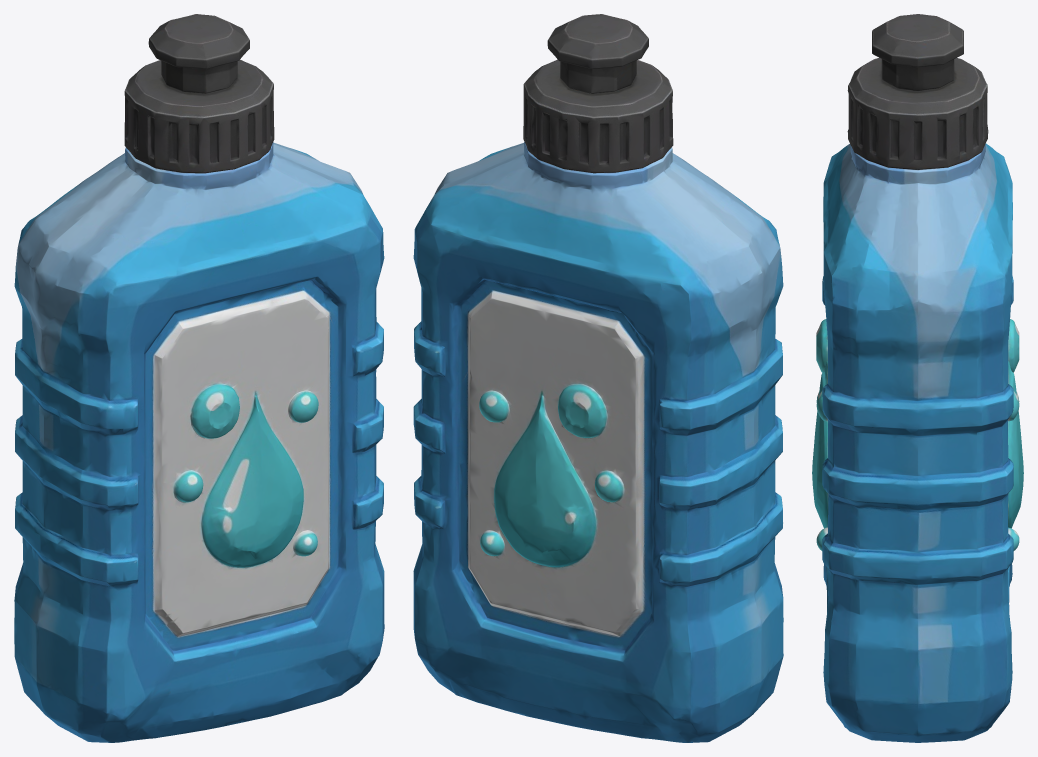
File: soap_bottle_1k_real.glb
3 views of the same model, side by side, from view 1: azimuth 30°, elevation 25°; view 2: azimuth 150°, elevation 25°; view 3: azimuth 270°, elevation 25° (orthographic). The views are drawn at different scales.
Parts seen in each view (by area): view 1: tripo_node_af40b1a2-7d5d-40a3-8d94-3b7d9b1b6abe; view 2: tripo_node_af40b1a2-7d5d-40a3-8d94-3b7d9b1b6abe; view 3: tripo_node_af40b1a2-7d5d-40a3-8d94-3b7d9b1b6abe.
Part boxes in pixels (x1,y1,x2,y2): tripo_node_af40b1a2-7d5d-40a3-8d94-3b7d9b1b6abe: (14, 14, 384, 742); tripo_node_af40b1a2-7d5d-40a3-8d94-3b7d9b1b6abe: (413, 14, 783, 742); tripo_node_af40b1a2-7d5d-40a3-8d94-3b7d9b1b6abe: (812, 14, 1023, 742).
Bounding box in the file's own units: 0.5075 × 1 × 0.2916.
Materials: 1 (1 with a texture image).
